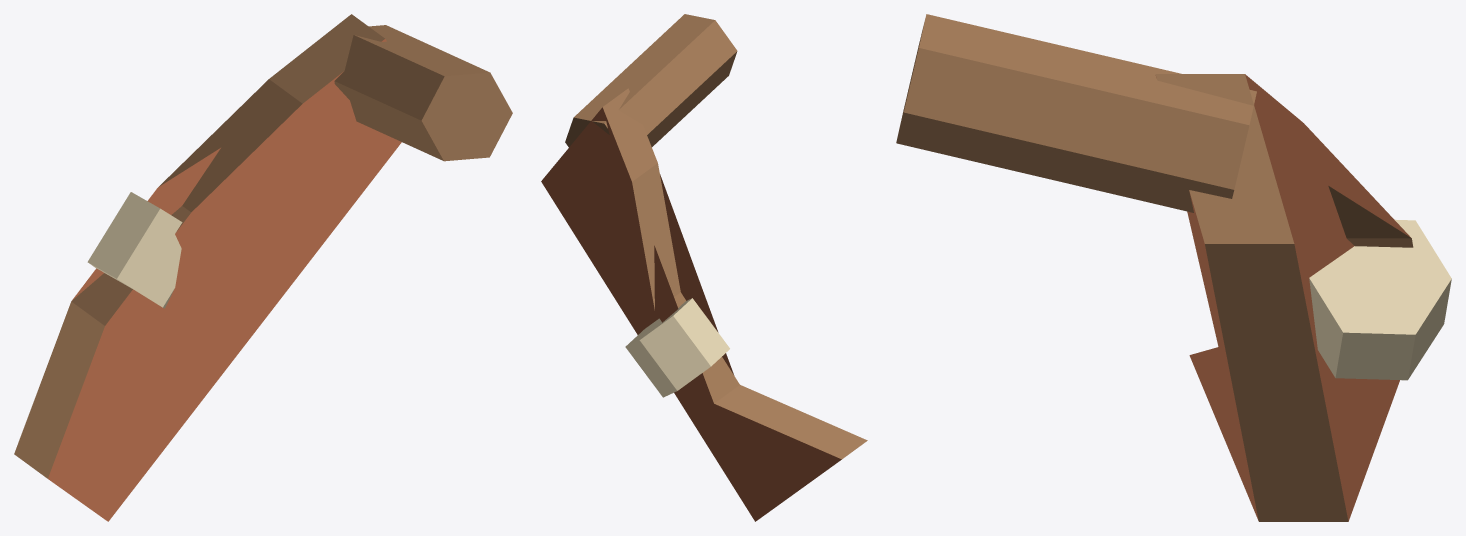
File: workwear.glb
3 views of the same model, side by side, from view 1: azimuth 30°, elevation 25°; view 2: azimuth 150°, elevation 25°; view 3: azimuth 270°, elevation 25° (orthographic). The views are drawn at different scales.
Visible parts, largest first — view 1: workwear; view 2: workwear; view 3: workwear.
Part boxes in pixels (<box>): workwear: <box>14,14,512,521</box>; workwear: <box>541,14,867,521</box>; workwear: <box>896,14,1451,521</box>.
Size of the model in its own units: 0.383 by 0.4604 by 0.3597.
